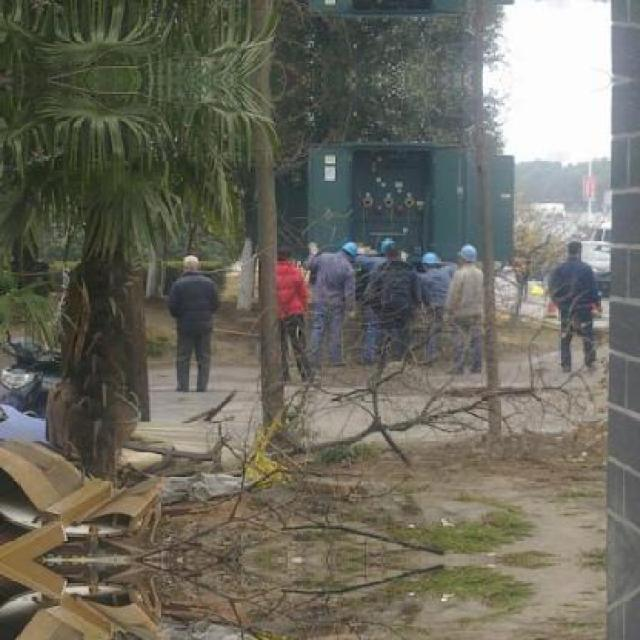helmet: (457, 244, 479, 264), (419, 252, 442, 265), (343, 241, 359, 259)
nohelmet: (180, 253, 204, 277), (564, 239, 586, 261), (276, 245, 296, 265), (386, 242, 404, 262)
